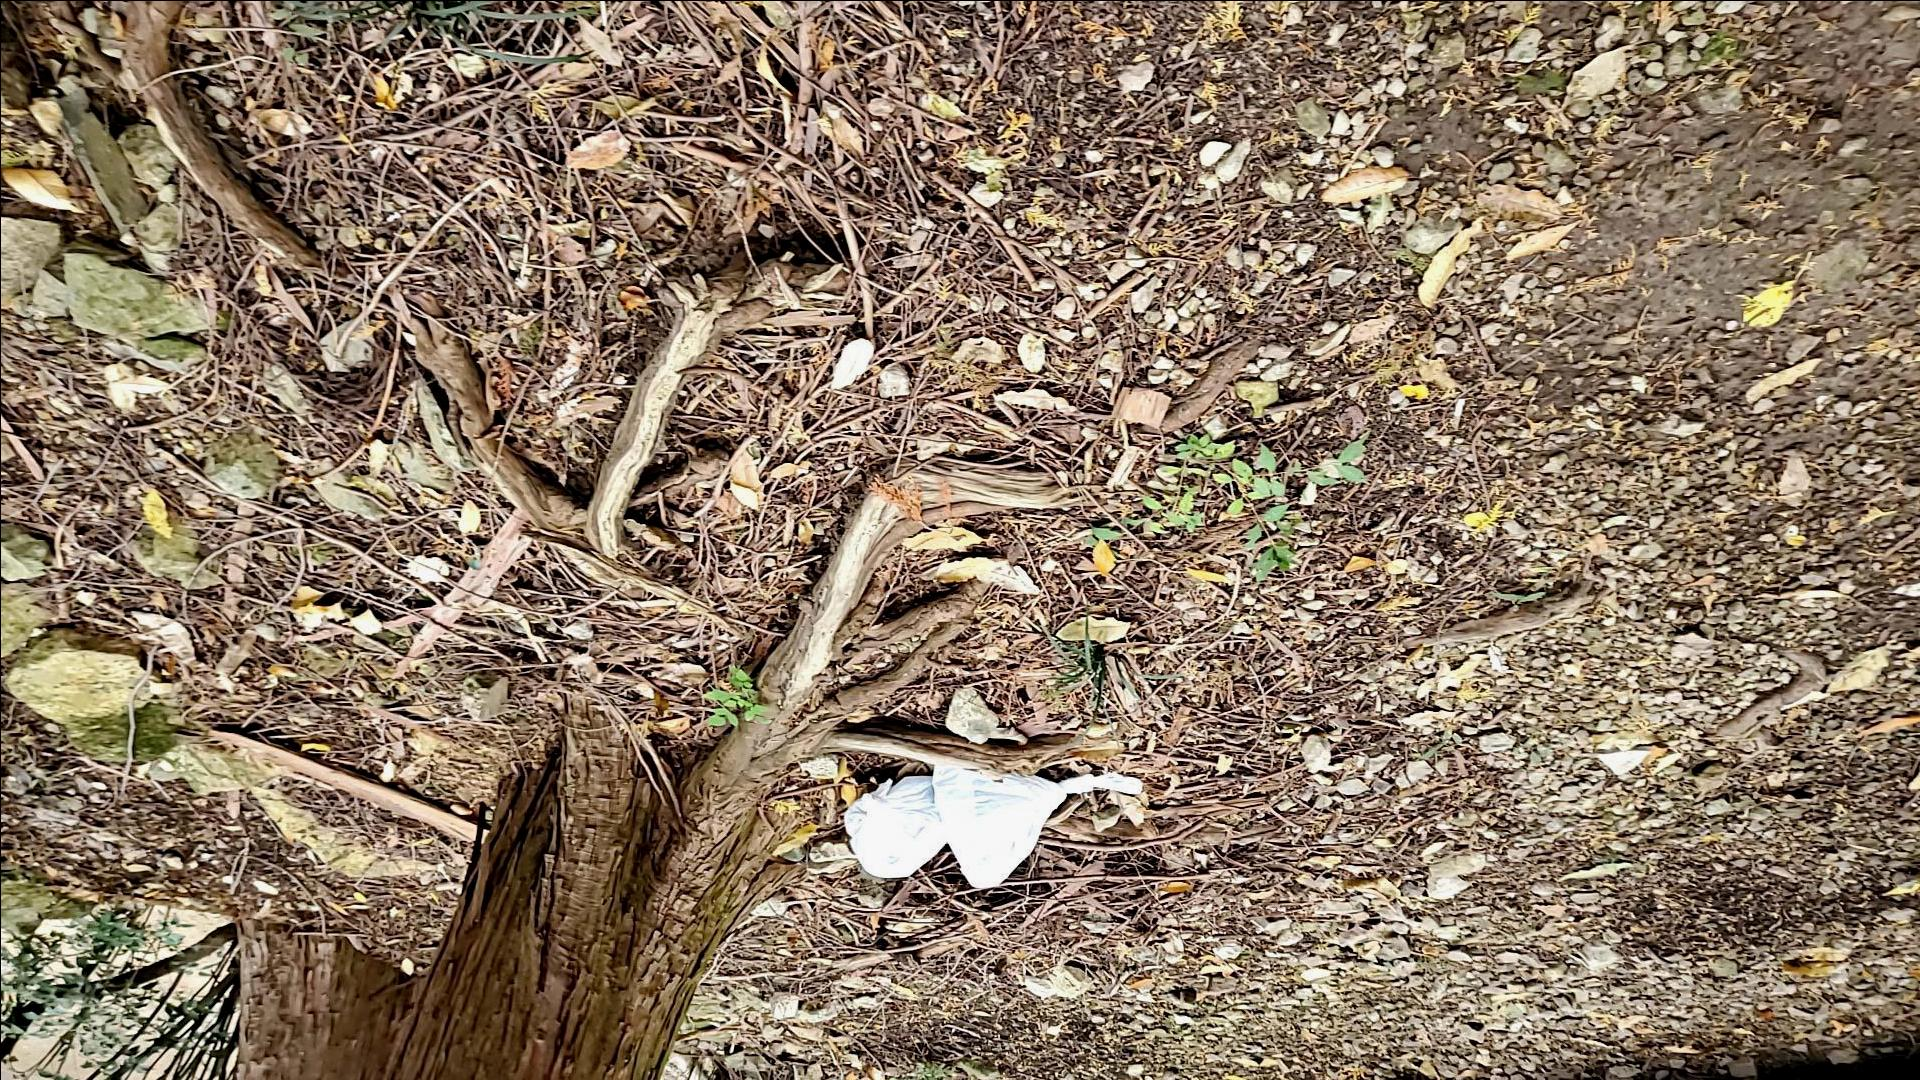white_bag: (928, 731, 1158, 905), (837, 760, 963, 881)
